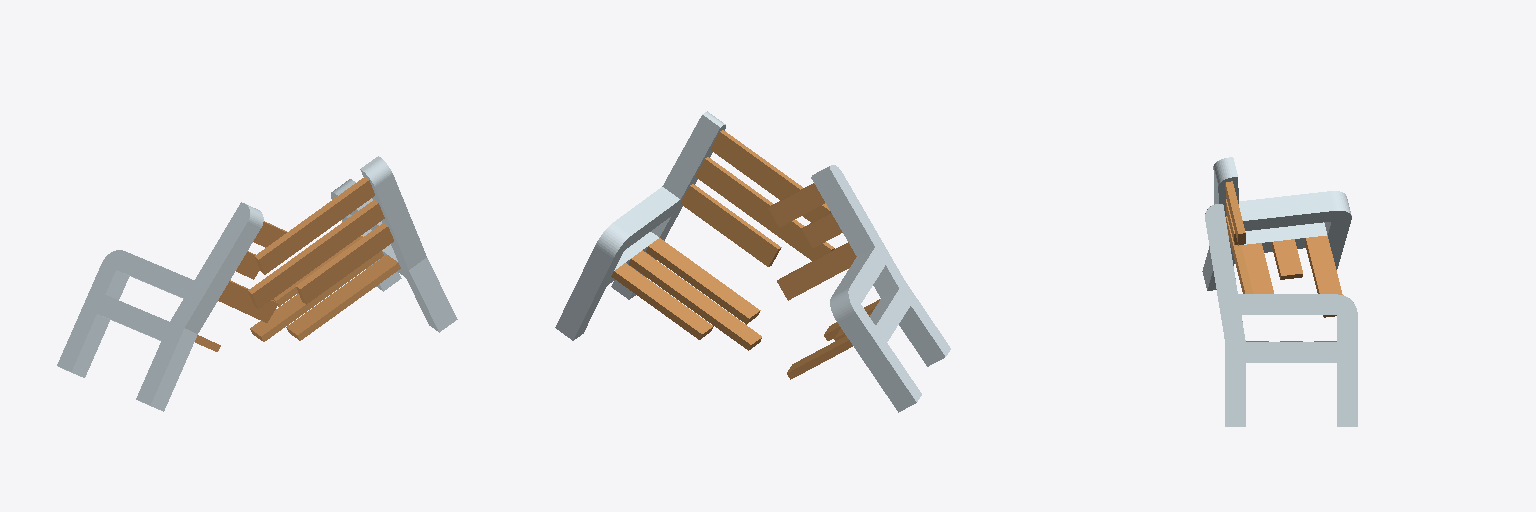
The model's file is benchBroken.obj.
3 views of the same model, side by side, from view 1: azimuth 30°, elevation 25°; view 2: azimuth 150°, elevation 25°; view 3: azimuth 270°, elevation 25° (orthographic).
Visible parts, largest first — view 1: benchBroken; view 2: benchBroken; view 3: benchBroken.
Part boxes in pixels (x1,y1,x2,y2): benchBroken: (57,156,457,411); benchBroken: (555,111,950,412); benchBroken: (1202,157,1357,426).
Bounding box in the file's own units: 9.9 × 5.32 × 3.83.